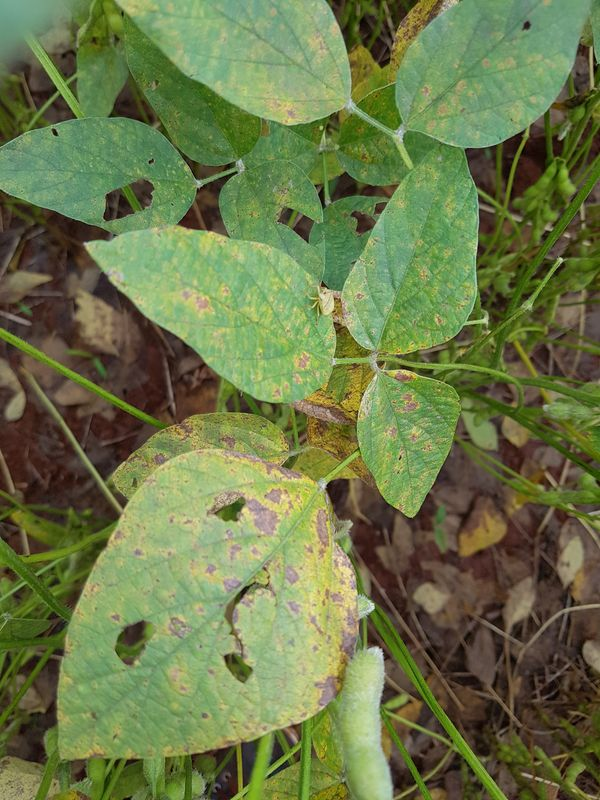Euschistus_heros_ninfa: (299, 277, 348, 324)
